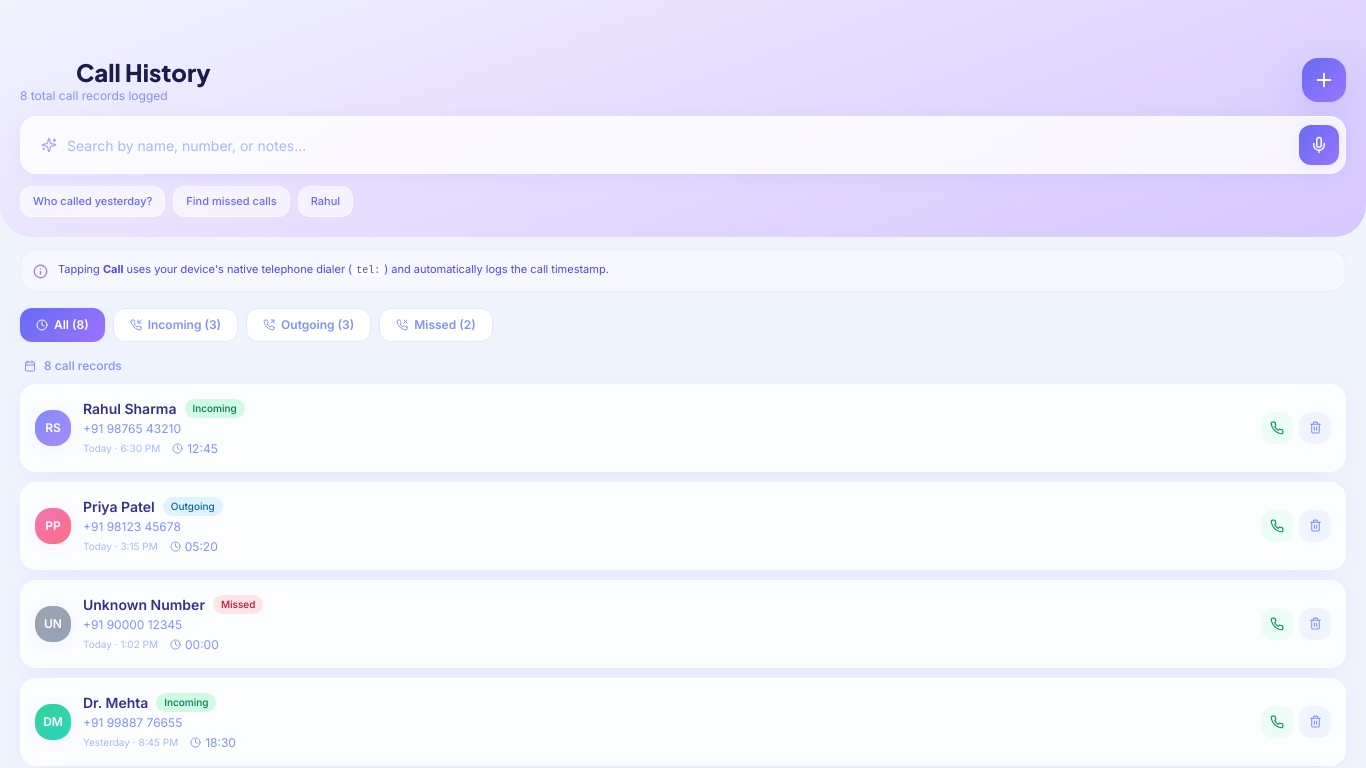
Test: CallsScreen › shows empty state when search matches nothing
The width and height of the screenshot is (1366, 768).
Type "zzz_no_match_zzz" into the field with placeholder "Search by name, number, or notes...".
click(659, 145); type("zzz_no_match_zzz")  # box left=27, top=123, right=1291, bottom=167
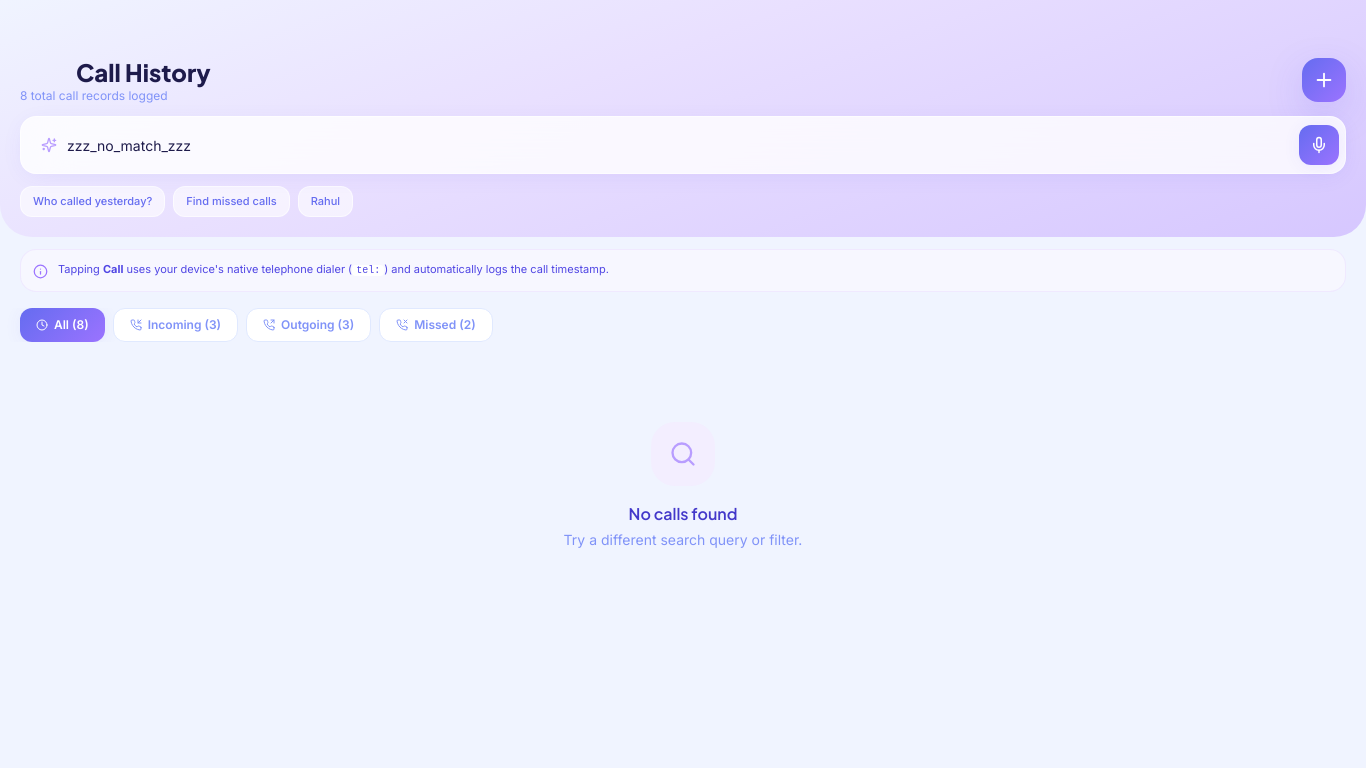
expect the heading "No calls found" is shown: met, box left=629, top=502, right=737, bottom=526
